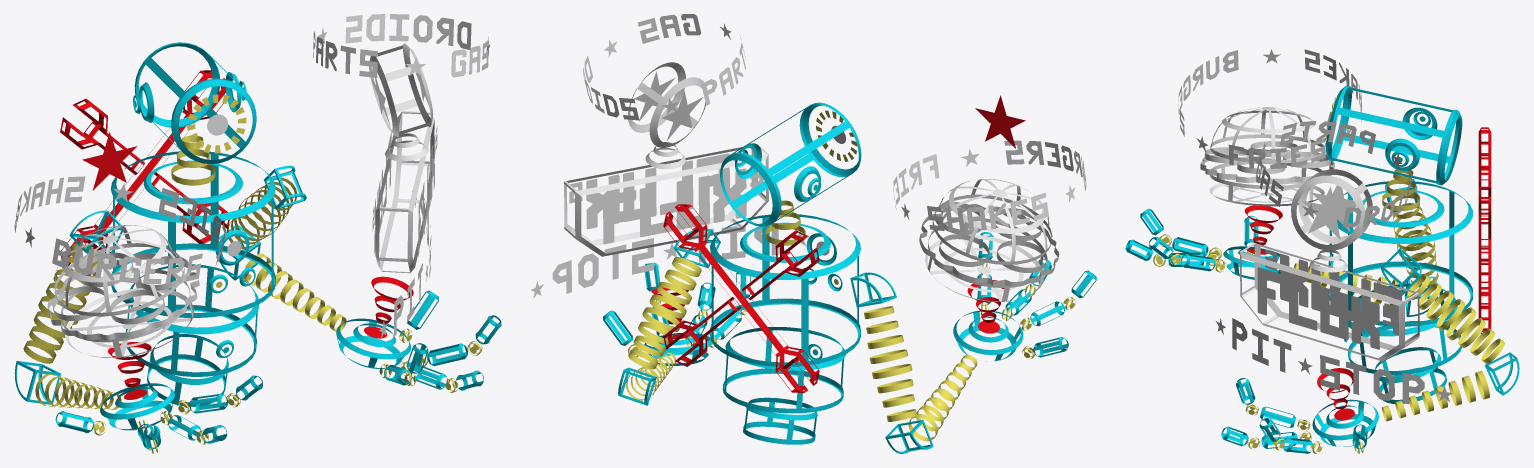
Rendered from PIT.glb.
The picture shows the model from 3 angles, left to right: view 1: azimuth 30°, elevation 25°; view 2: azimuth 150°, elevation 25°; view 3: azimuth 270°, elevation 25°; orthographic projection. The views are drawn at different scales.
Parts seen in each view (by area): view 1: object.013, object.019, object, object.043, object.042, object.015, object.025, object.012, object.028, object.023, object.017, star (+9 smaller); view 2: object.019, object.013, object, object.042, object.043, object.023, object.015, object.017, object.012, star, object.025, object.028 (+4 smaller); view 3: object.019, object.013, object, object.043, object.023, object.042, object.025, object.015, object.028, object.044, object.012, energyRings (+4 smaller).
Part boxes in pixels (<box>): object.013: <box>14,176,225,357</box>; object.019: <box>313,14,490,339</box>; object: <box>111,151,275,406</box>; object.043: <box>133,42,256,163</box>; object.042: <box>60,70,229,275</box>; object.015: <box>23,243,98,363</box>; object.025: <box>244,253,346,331</box>; object.012: <box>100,383,174,430</box>; object.028: <box>336,318,411,368</box>; object.023: <box>226,177,296,248</box>; object.017: <box>35,373,121,409</box>; star: <box>82,132,137,190</box>; object.019: <box>531,14,809,298</box>; object.013: <box>893,140,1086,301</box>; object: <box>710,214,860,444</box>; object.042: <box>663,204,819,392</box>; object.043: <box>720,102,861,226</box>; object.023: <box>628,257,701,369</box>; object.015: <box>864,306,916,421</box>; object.017: <box>908,354,977,441</box>; object.012: <box>953,310,1023,361</box>; star: <box>975,95,1025,148</box>; object.025: <box>626,352,675,400</box>; object.028: <box>644,333,712,365</box>; object.019: <box>1216,121,1453,404</box>; object.013: <box>1178,49,1361,206</box>; object: <box>1328,181,1472,403</box>; object.043: <box>1326,85,1462,185</box>; object.023: <box>1407,274,1504,364</box>; object.042: <box>1478,127,1491,333</box>; object.025: <box>1382,371,1489,421</box>; object.015: <box>1392,195,1438,287</box>; object.028: <box>1312,399,1378,446</box>; object.044: <box>1382,169,1419,210</box>; object.012: <box>1223,246,1289,280</box>; energyRings: <box>1244,205,1282,245</box>.
Size of the model in its own units: 1.98 by 1.42 by 1.59.
